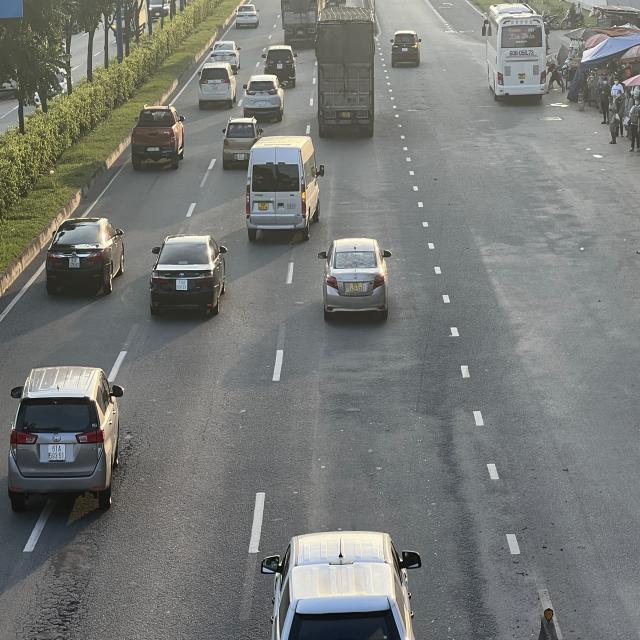car: (264, 528, 423, 638), (8, 365, 125, 511), (46, 215, 125, 295), (152, 233, 230, 314), (323, 238, 394, 322), (130, 106, 186, 172), (243, 75, 288, 123), (220, 118, 260, 170), (198, 59, 238, 107), (264, 45, 298, 89), (391, 29, 423, 66), (235, 2, 260, 29)
coach: (484, 6, 548, 103)
truck: (316, 7, 377, 135), (280, 0, 318, 42)
van: (245, 137, 324, 241)
